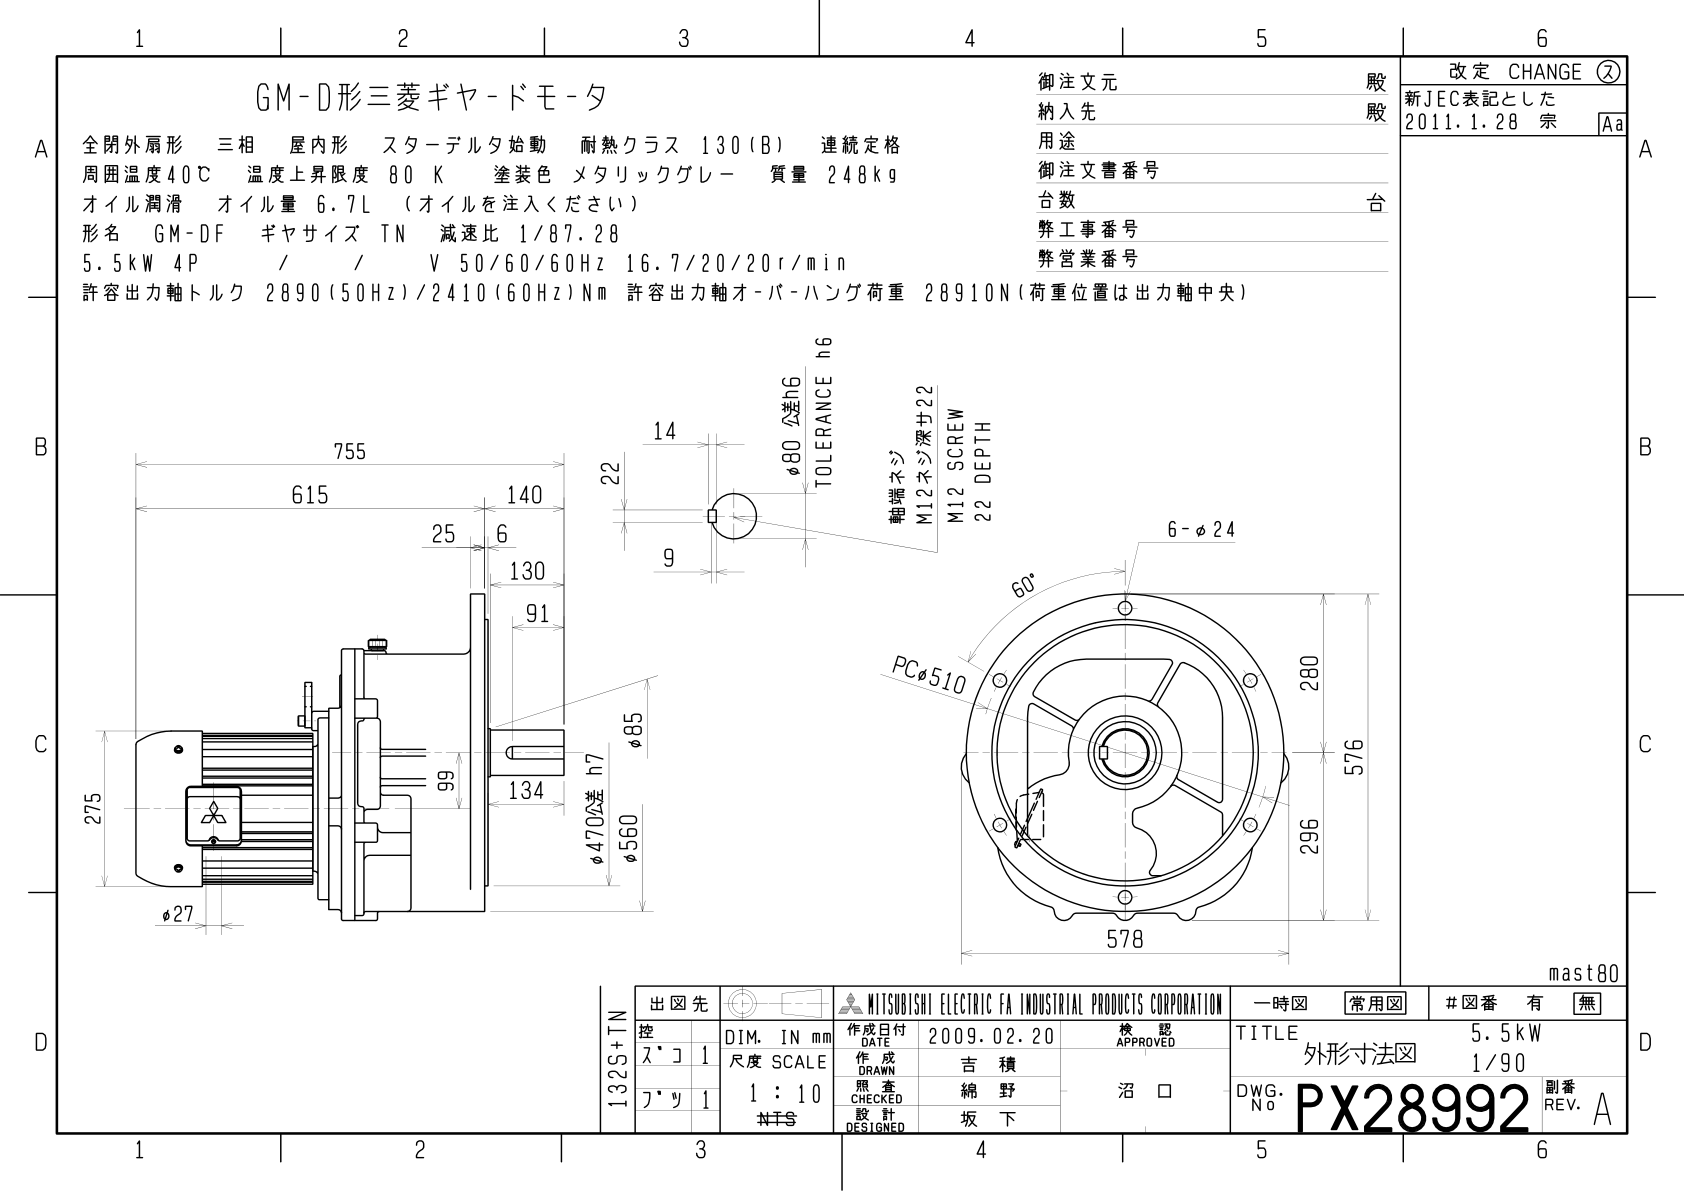GM_D_屋内＿三相_フランジ: (26, 22, 1684, 1191)
